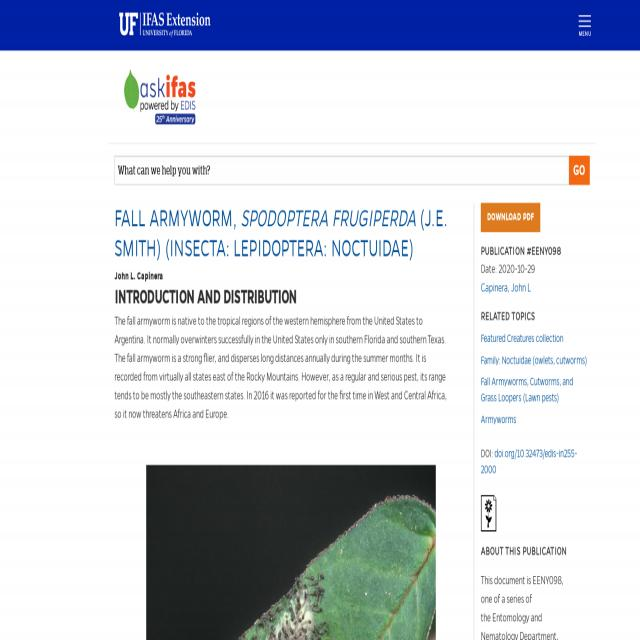button: (146, 465, 436, 640), (124, 70, 196, 124), (119, 12, 211, 38), (480, 203, 540, 232), (481, 494, 497, 532), (569, 156, 589, 185), (579, 16, 591, 34)
field: (114, 156, 568, 186)
